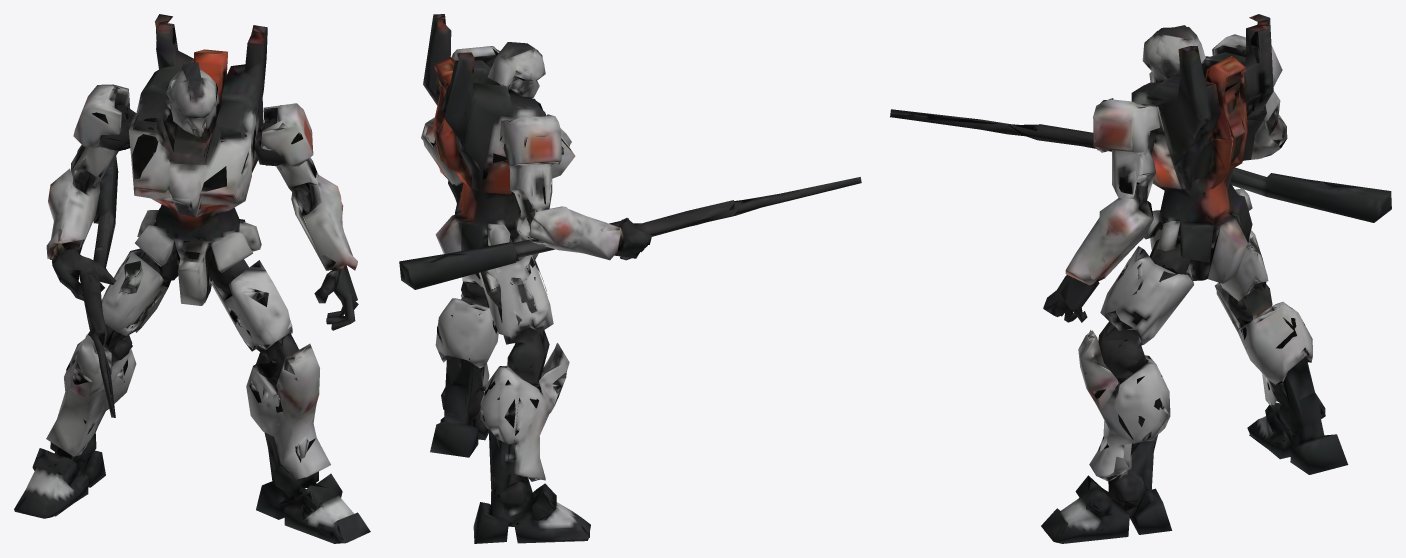
File: detail_2_lo.glb
The picture shows the model from 3 angles, left to right: view 1: azimuth 30°, elevation 25°; view 2: azimuth 150°, elevation 25°; view 3: azimuth 270°, elevation 25°; orthographic projection. The views are drawn at different scales.
Visible parts, largest first — view 1: Mesh_0.001; view 2: Mesh_0.001; view 3: Mesh_0.001.
Boxes of the visible parts, x1=… form: Mesh_0.001: x1=14, y1=14, x2=370, y2=543; Mesh_0.001: x1=399, y1=14, x2=861, y2=543; Mesh_0.001: x1=890, y1=14, x2=1391, y2=543.
Size of the model in its own units: 0.7712 by 0.9986 by 0.9556.
1 material, 1 textured.
